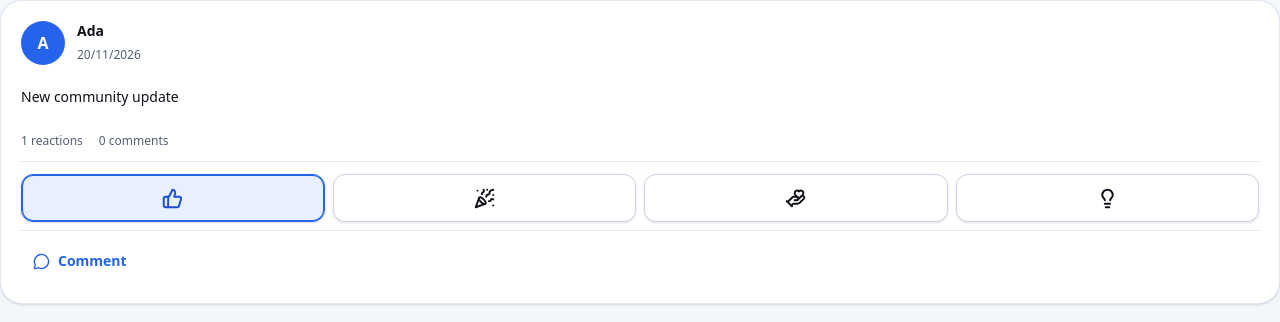
Test: mobile social reaction controls › persists the button kind and updates the count and selection only on success
The width and height of the screenshot is (1280, 322).
Expected: the text with test id "reaction-count" reads "1 reactions", top-left (21, 133), bottom-right (83, 149)
Click the button named "Insightful". click: coordinates (1107, 198)
box: top-left (956, 174), bottom-right (1259, 222)
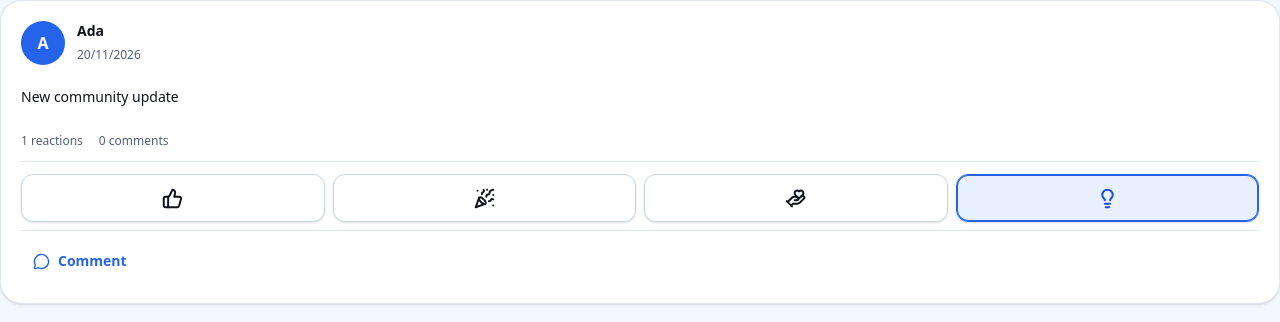
Expected: the text with test id "reaction-count" reads "1 reactions", top-left (21, 133), bottom-right (83, 149)
Expected: the button named "Insightful" is pressed
Expected: the button named "Like" is not pressed, top-left (21, 174), bottom-right (324, 222)
Click the button named "Insightful". click: coordinates (1107, 198)
box: top-left (956, 174), bottom-right (1259, 222)
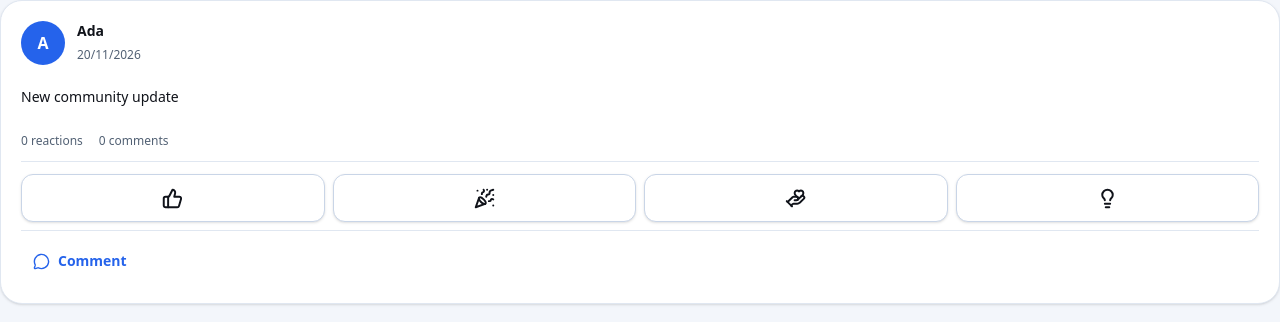
Expected: the text with test id "reaction-count" reads "0 reactions", top-left (21, 133), bottom-right (83, 149)
Click the button named "Celebrate". click: coordinates (484, 198)
box: top-left (332, 174), bottom-right (636, 222)
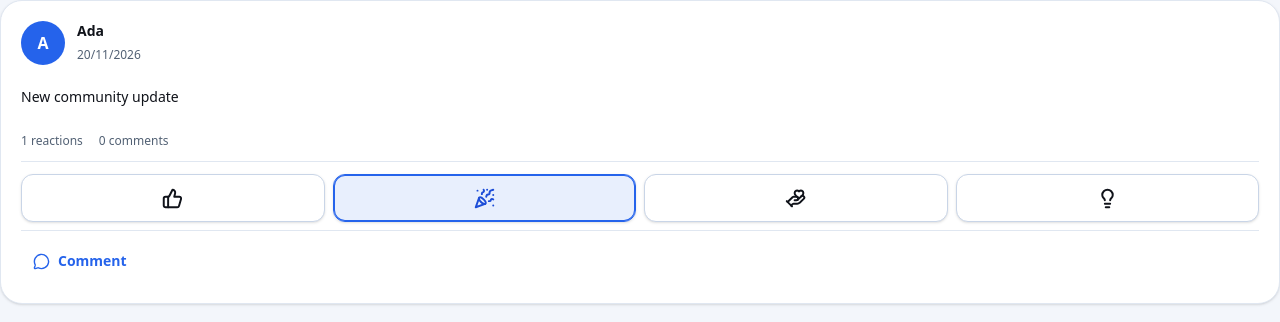
Expected: the text with test id "reaction-count" reads "1 reactions", top-left (21, 133), bottom-right (83, 149)
